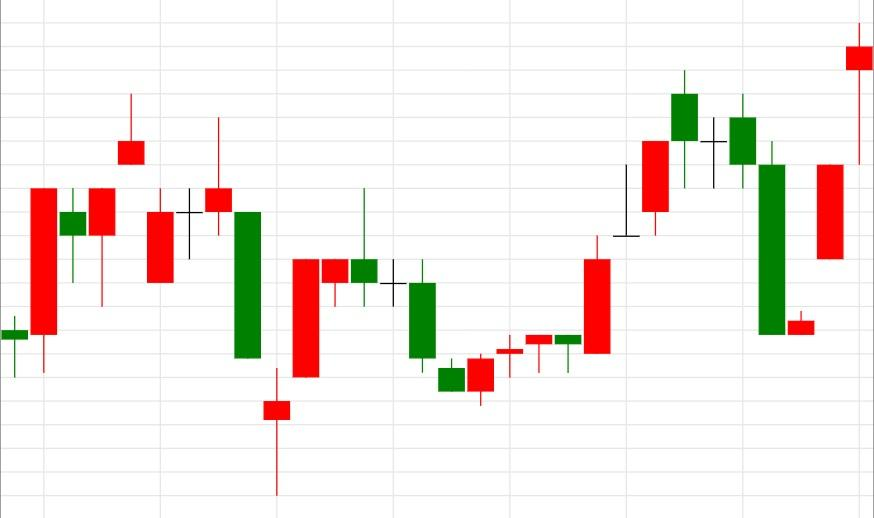bullish_engulfing_rise: (351, 189, 495, 407)
shooting_star_fall: (0, 93, 145, 378)
